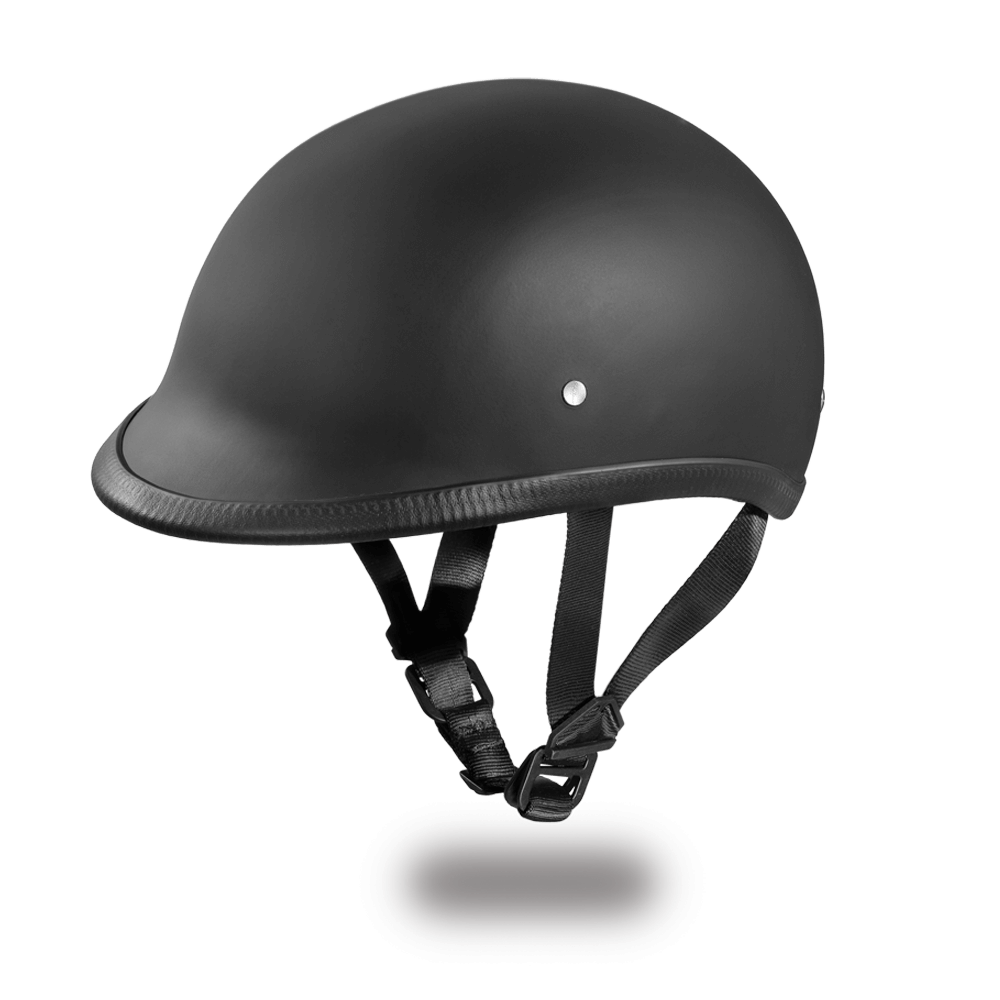with_helmet: (84, 68, 845, 555)
